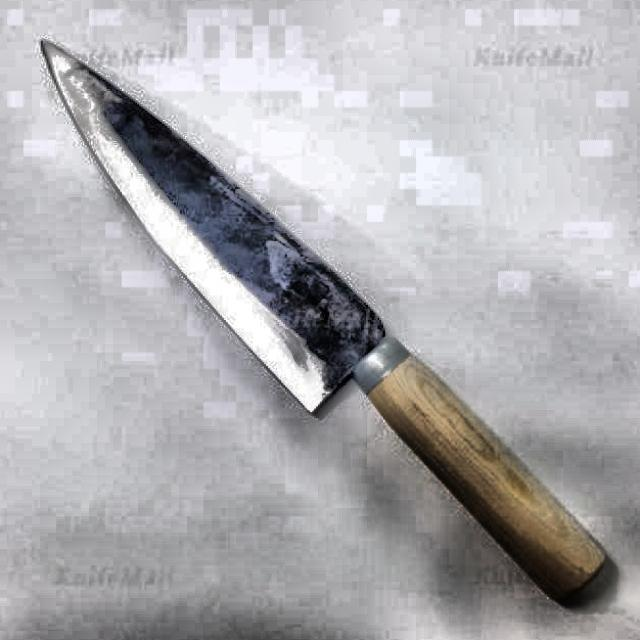knife: (39, 38, 611, 613)
